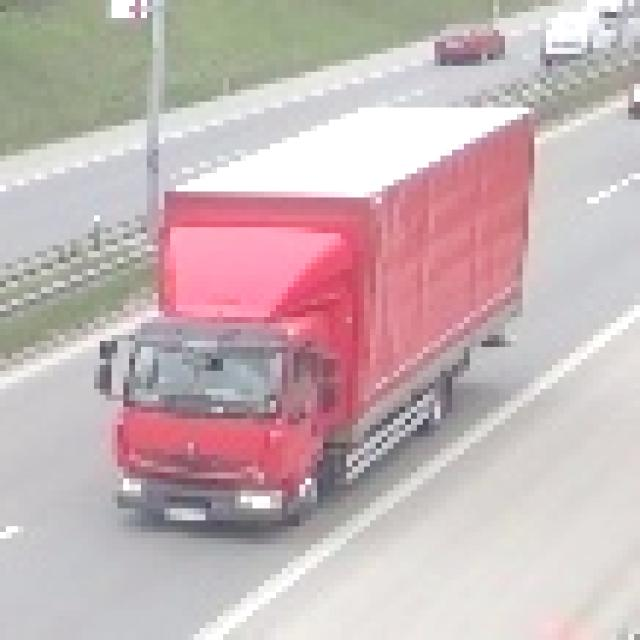truck: (89, 97, 530, 527)
